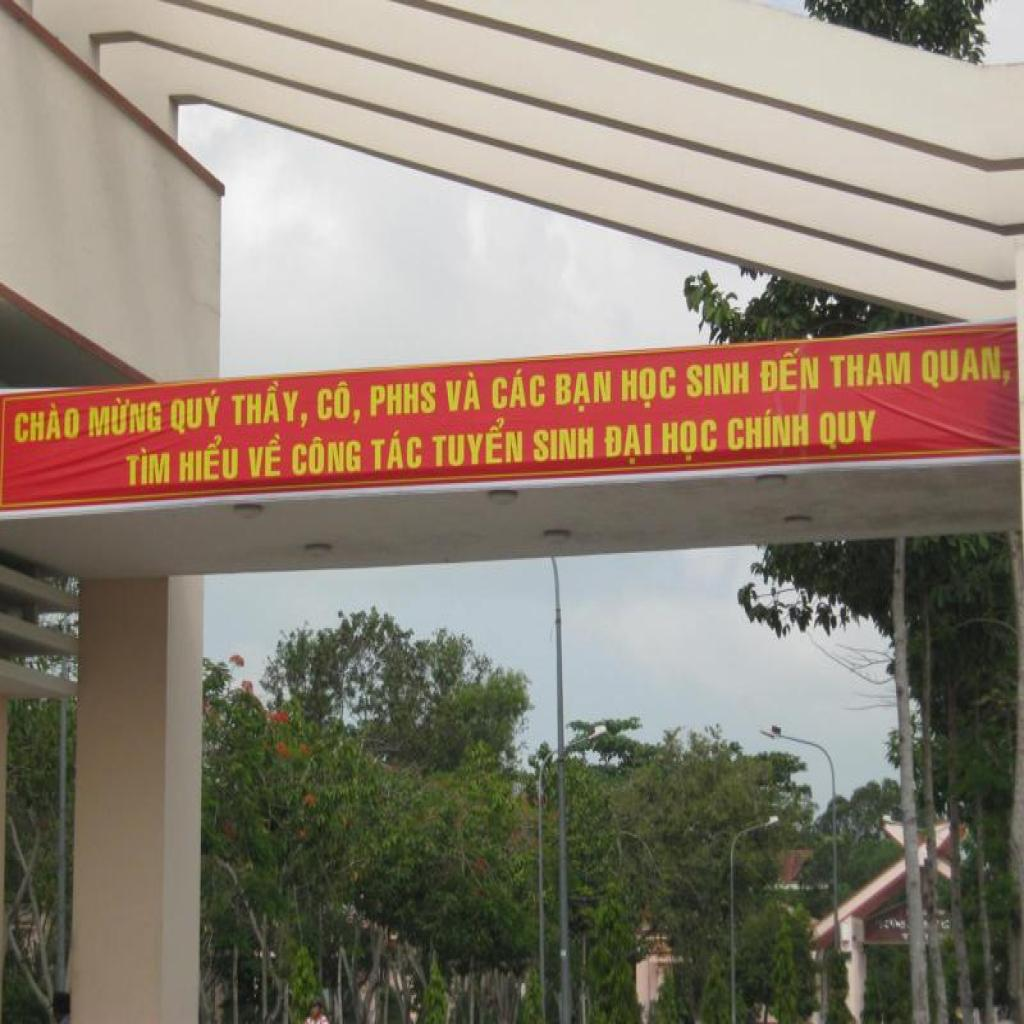text: (428, 415, 526, 469), (916, 342, 1012, 392), (726, 404, 813, 456), (230, 379, 311, 433), (827, 344, 915, 392), (86, 391, 165, 442), (9, 398, 82, 449), (758, 344, 822, 398), (177, 435, 239, 488), (289, 437, 365, 478), (816, 404, 880, 452), (620, 366, 680, 416), (369, 376, 439, 418), (660, 416, 720, 464), (490, 365, 548, 413), (554, 367, 614, 413), (316, 374, 365, 430), (531, 422, 597, 462), (170, 386, 224, 434), (370, 426, 424, 474), (684, 360, 752, 398), (602, 420, 654, 469), (126, 445, 174, 490), (246, 432, 285, 484), (444, 372, 481, 415)
